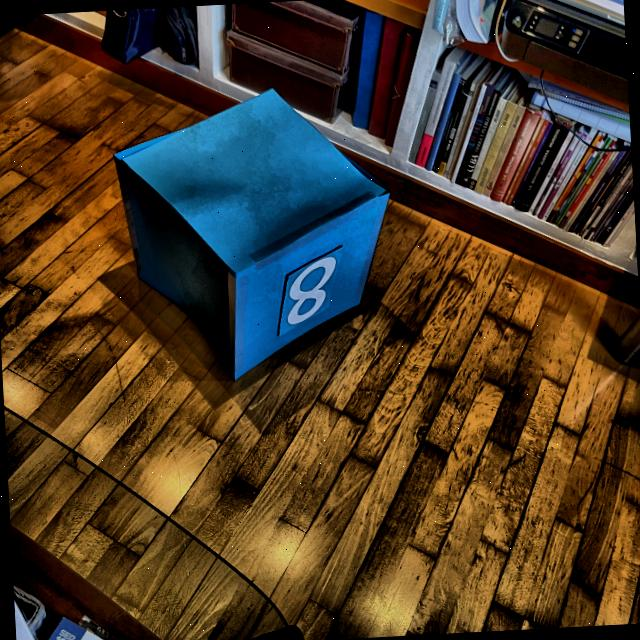blue box: (108, 80, 406, 390)
eight: (280, 254, 344, 331)
